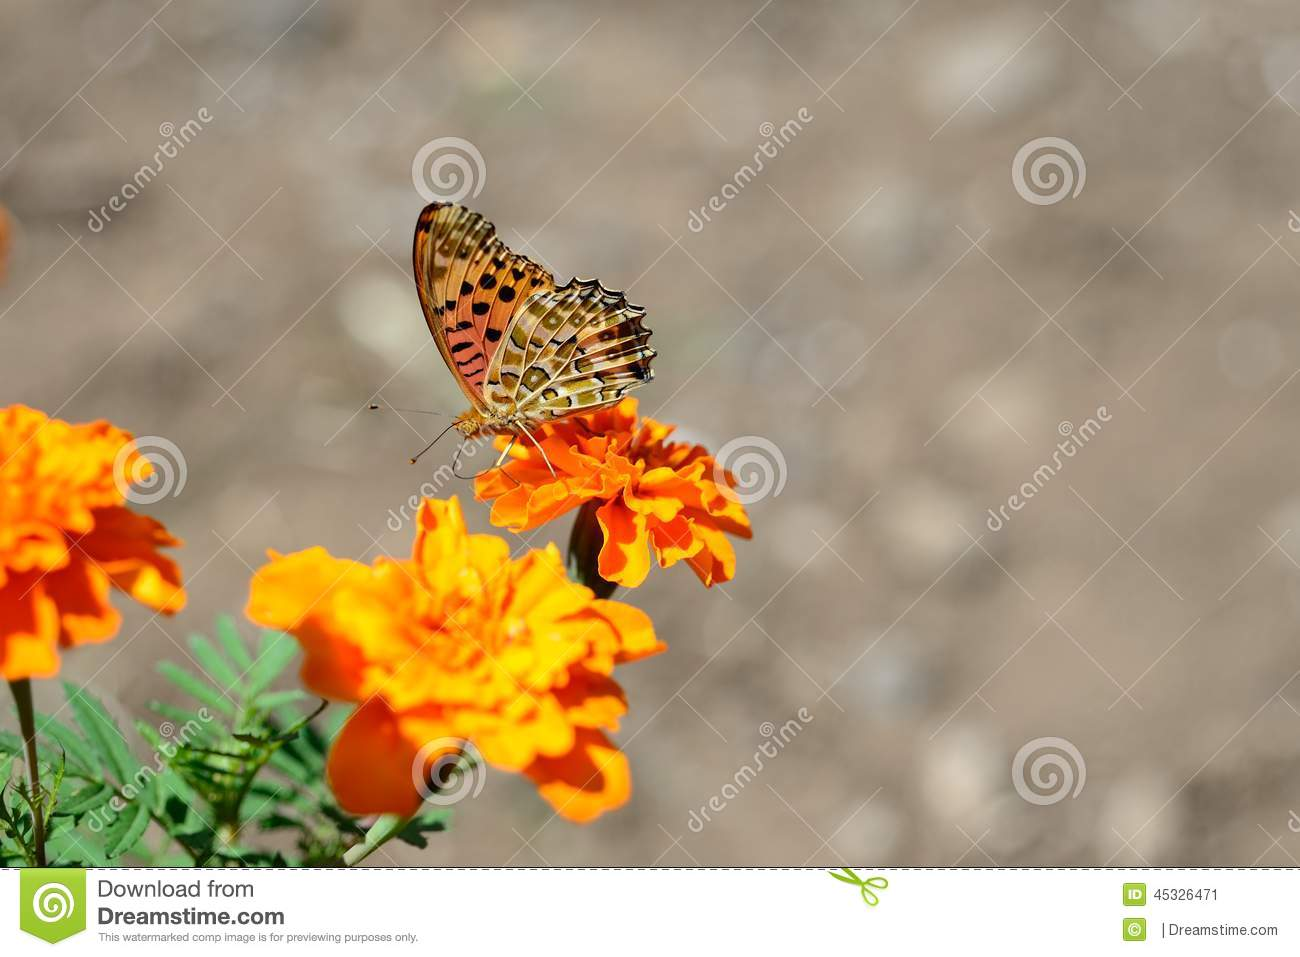Argyreus hyperbius: (381, 188, 666, 478)
butterfly: (383, 190, 668, 480)
